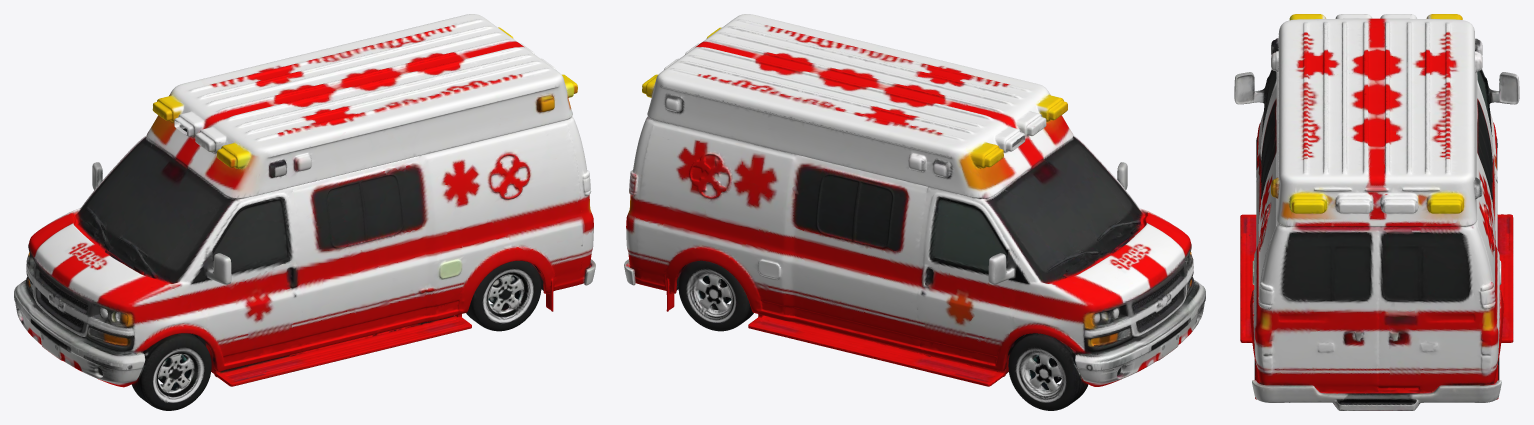
The model's file is Ambulance.glb.
3 renders of one model, left to right at view 1: azimuth 30°, elevation 25°; view 2: azimuth 150°, elevation 25°; view 3: azimuth 270°, elevation 25°, orthographic. The views are drawn at different scales.
Size of the model in its own units: 1.9 by 0.8403 by 0.8791.
Materials: 1 (1 with a texture image).
